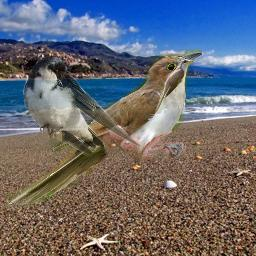Cuckoo: (5, 49, 202, 206), (154, 59, 194, 114)
Swallow: (21, 55, 143, 157)
